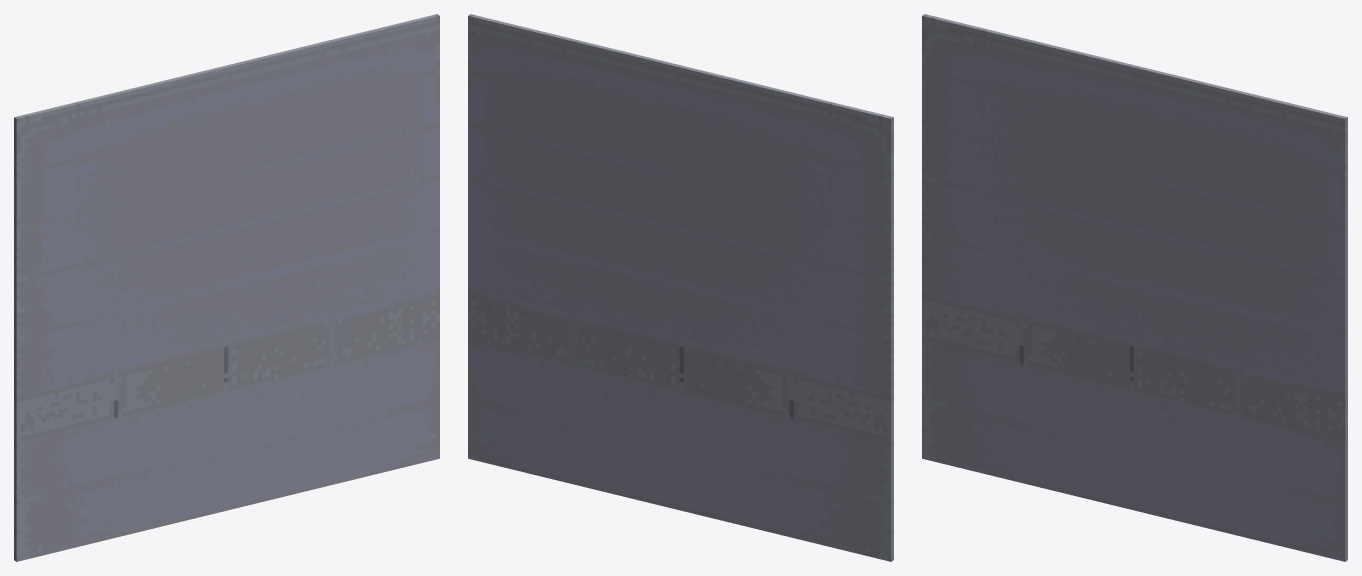
Rendered from Shutter.fbx.
The picture shows the model from 3 angles, left to right: view 1: azimuth 30°, elevation 25°; view 2: azimuth 150°, elevation 25°; view 3: azimuth 330°, elevation 25°; orthographic projection.
Visible parts, largest first — view 1: shutter.001; view 2: shutter.001; view 3: shutter.001.
Part boxes in pixels (x1,y1,x2,y2): shutter.001: [14, 14, 439, 561]; shutter.001: [468, 14, 893, 561]; shutter.001: [922, 14, 1347, 561].
Size of the model in its own units: 623 by 623 by 6.23.
